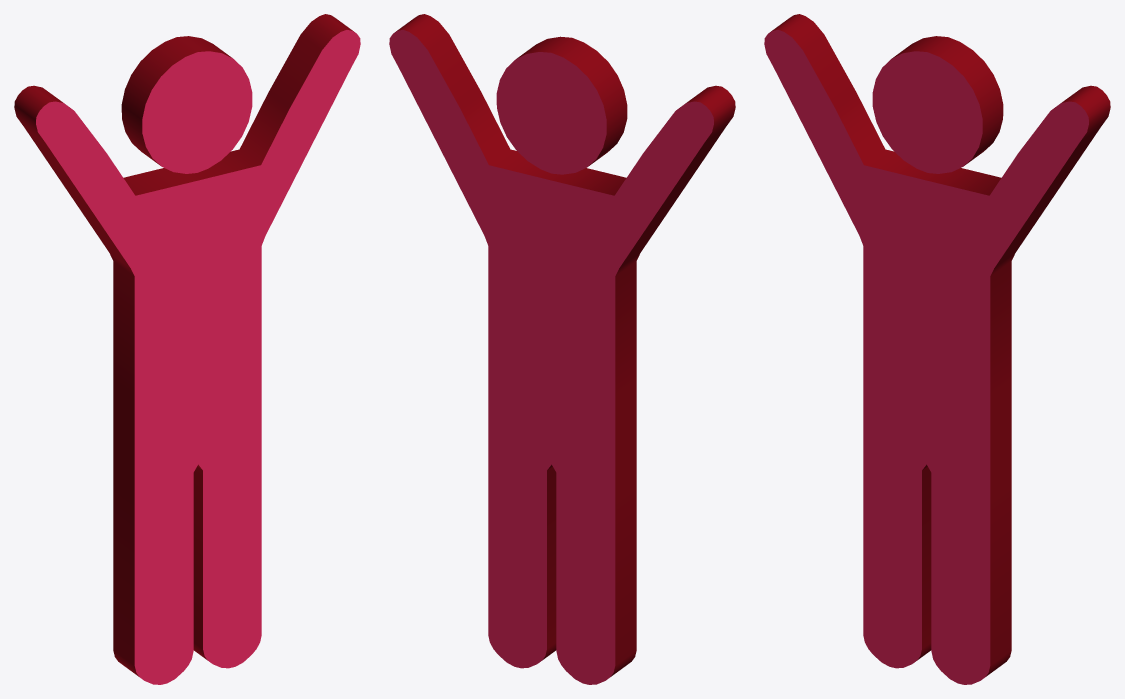
Rendered from Male Dummy Up.fbx.
The picture shows the model from 3 angles, left to right: view 1: azimuth 30°, elevation 25°; view 2: azimuth 150°, elevation 25°; view 3: azimuth 330°, elevation 25°; orthographic projection.
Parts seen in each view (by area): view 1: Male Dummy Up; view 2: Male Dummy Up; view 3: Male Dummy Up.
Boxes of the visible parts, x1,y1,x2,y2 form: Male Dummy Up: [14, 14, 360, 684]; Male Dummy Up: [389, 14, 735, 684]; Male Dummy Up: [764, 14, 1110, 684].
Size of the model in its own units: 108 by 199 by 12.44.
